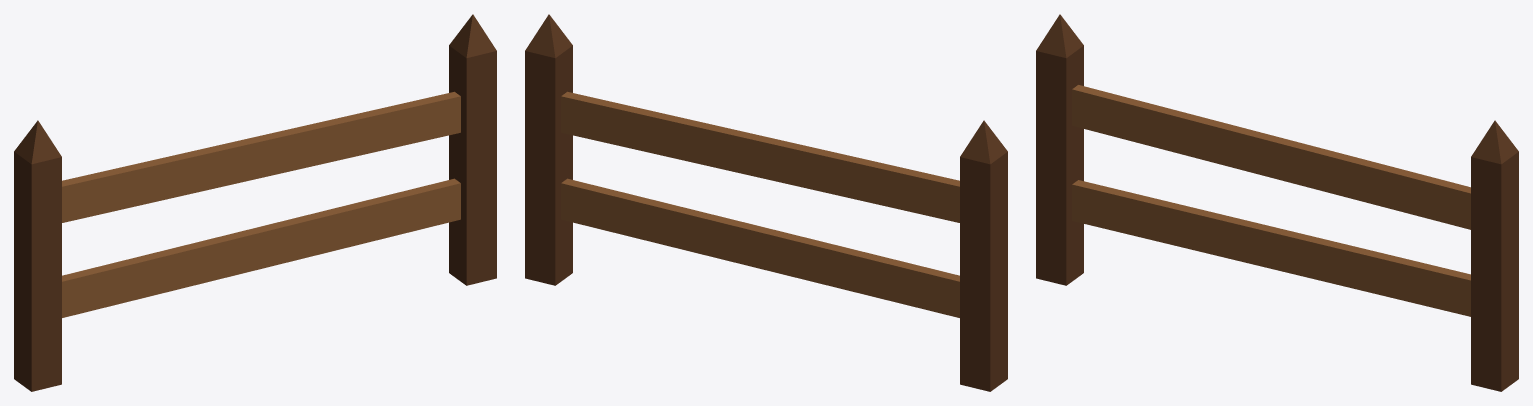
Rendered from FenceSegment.glb.
3 views of the same model, side by side, from view 1: azimuth 30°, elevation 25°; view 2: azimuth 150°, elevation 25°; view 3: azimuth 330°, elevation 25° (orthographic).
Parts seen in each view (by area): view 1: FenceSegment; view 2: FenceSegment; view 3: FenceSegment.
Part boxes in pixels (x1,y1,x2,y2): FenceSegment: (14, 14, 496, 391); FenceSegment: (525, 14, 1007, 391); FenceSegment: (1036, 14, 1518, 391).
Size of the model in its own units: 2.14 by 1.15 by 0.14.
Materials: 1 (1 with a texture image).
